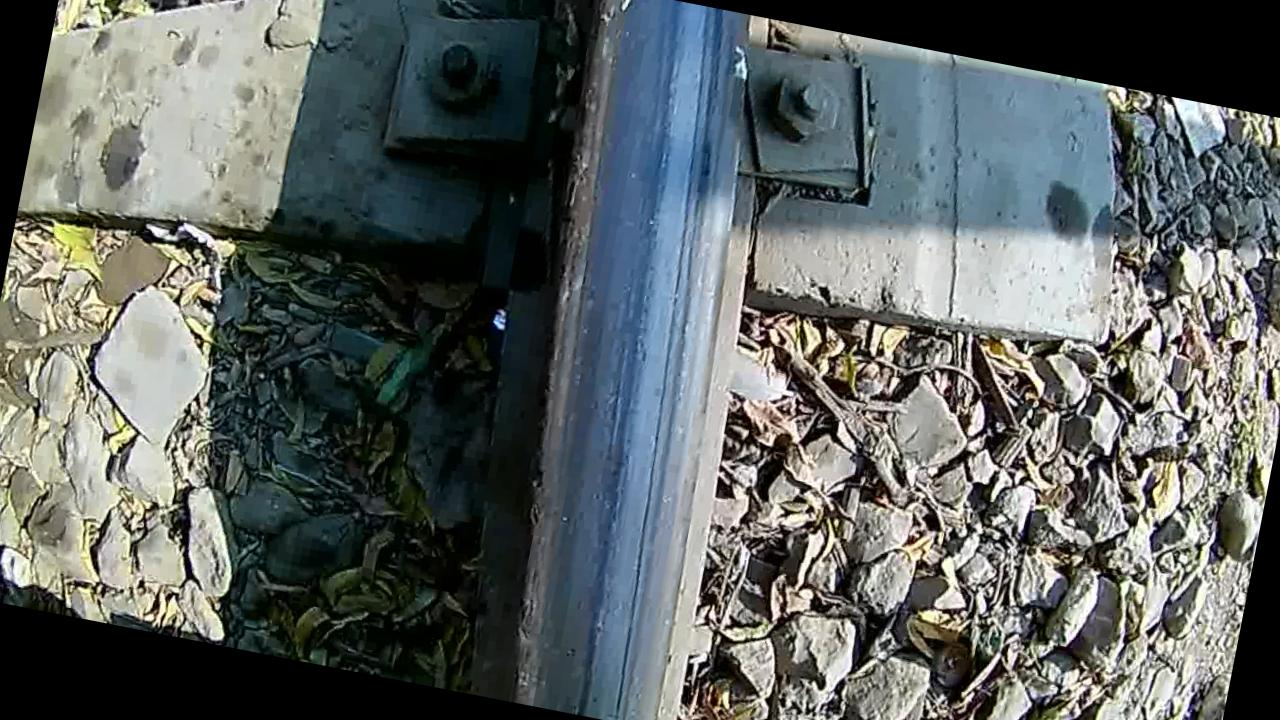clip_missing: (446, 0, 804, 720)
